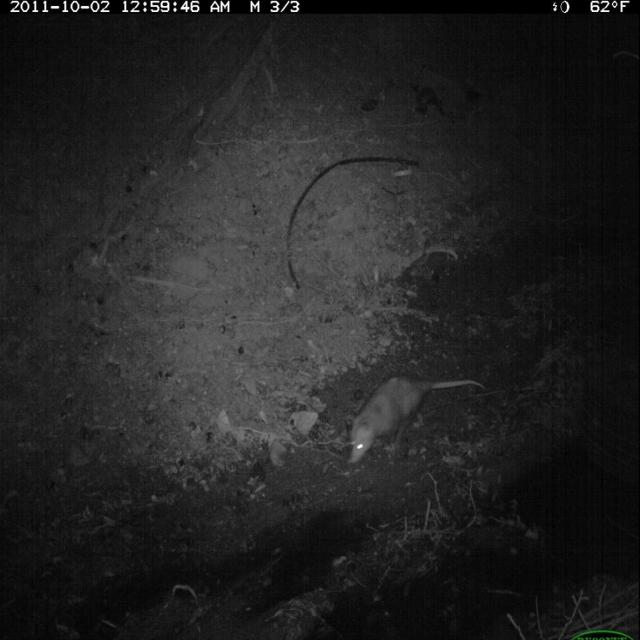opossum: (343, 369, 488, 467)
